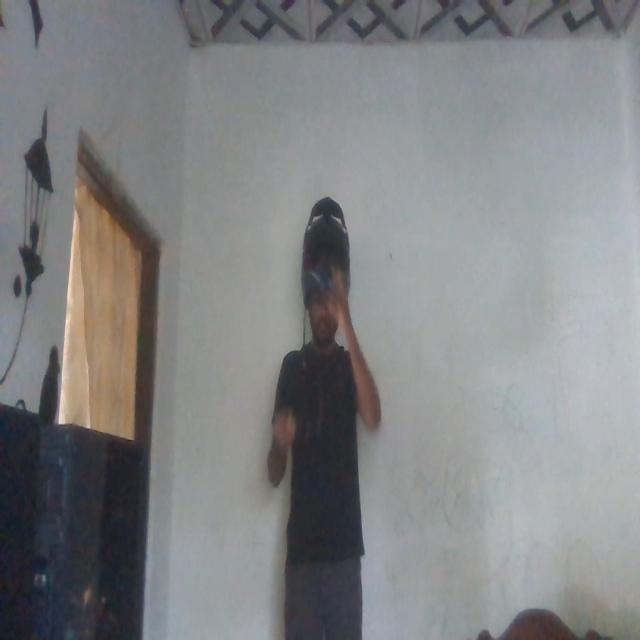Helmet_Wearer: (292, 202, 356, 360)
Person: (265, 264, 379, 640)
